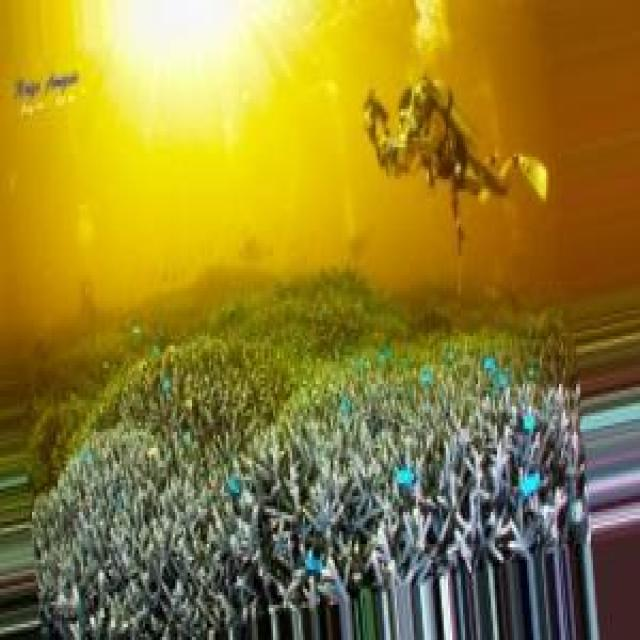Bleached: (33, 331, 588, 640)
